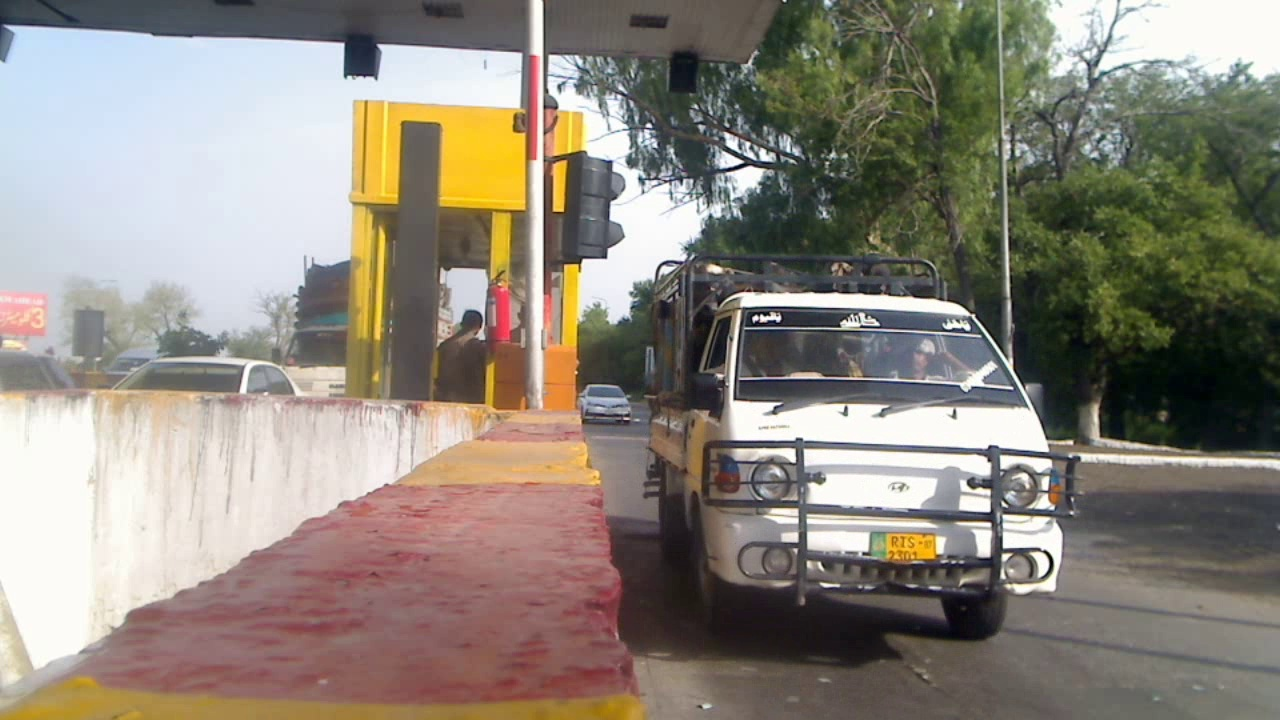Number Plate (Car): (872, 532, 935, 562)
